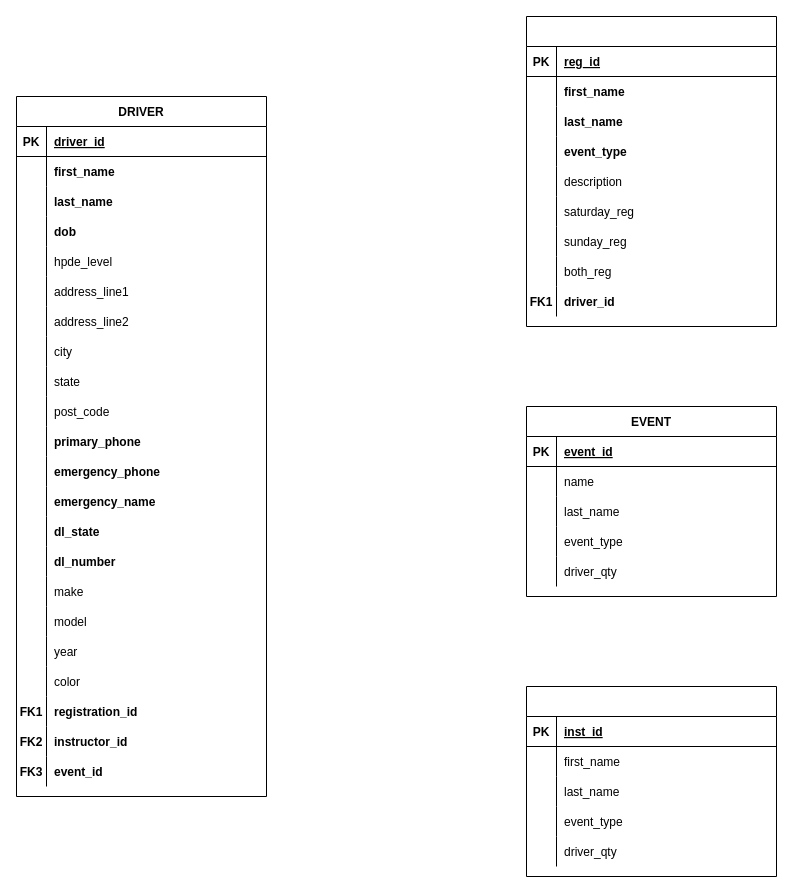
The diagram is 793 pixels wide and 893 high, and some of its shapes have lost their labels. Here are the shapes that lost their labels. From the top down, the box of each, then its label:
(526, 16, 776, 326): REGISTRATION
(526, 686, 776, 876): INSTRUCTOR
